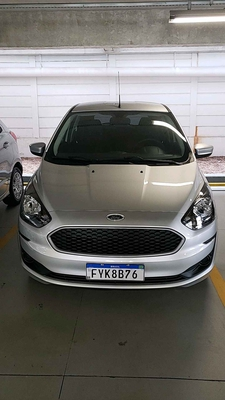Frontal Veiculo: (18, 106, 218, 293)
